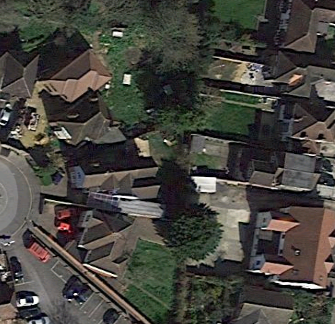tree: (158, 189, 227, 268)
